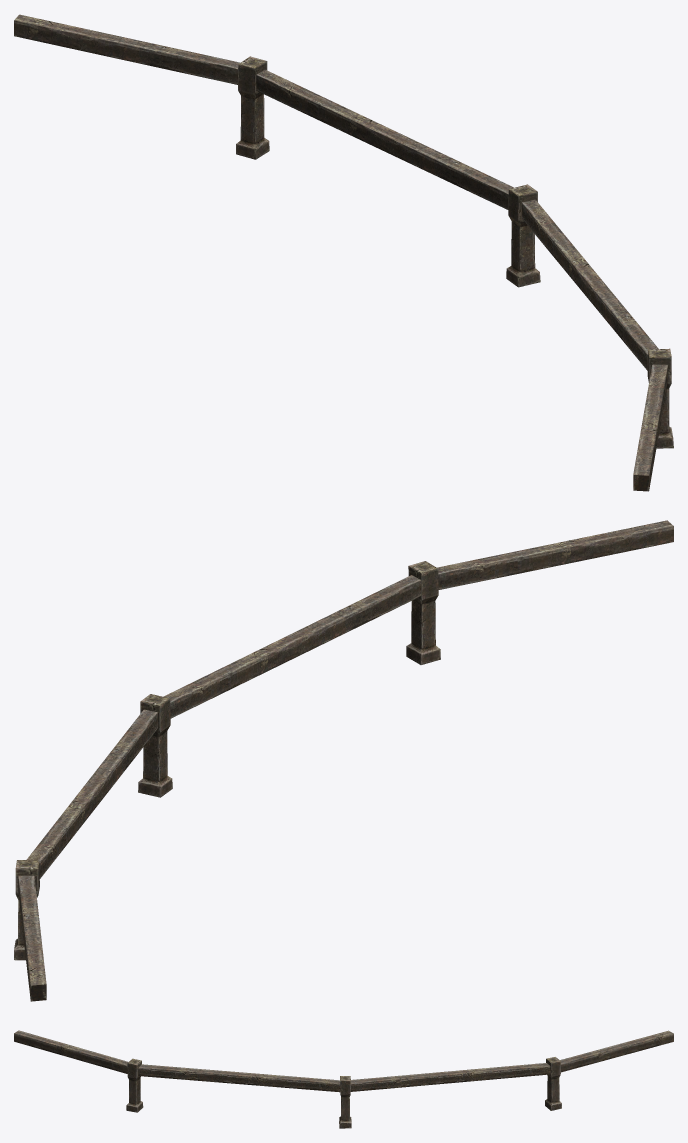
File: miniboss_04.fbx
3 views of the same model, one above another, from view 1: azimuth 30°, elevation 25°; view 2: azimuth 150°, elevation 25°; view 3: azimuth 270°, elevation 25° (orthographic). The views are drawn at different scales.
Parts seen in each view (by area): view 1: miniboss_04; view 2: miniboss_04; view 3: miniboss_04.
Boxes of the visible parts, bbox=[...] form: miniboss_04: bbox=[14, 14, 673, 491]; miniboss_04: bbox=[14, 520, 673, 1001]; miniboss_04: bbox=[14, 1030, 673, 1128].
Size of the model in its own units: 18.22 by 7.37 by 93.15.
